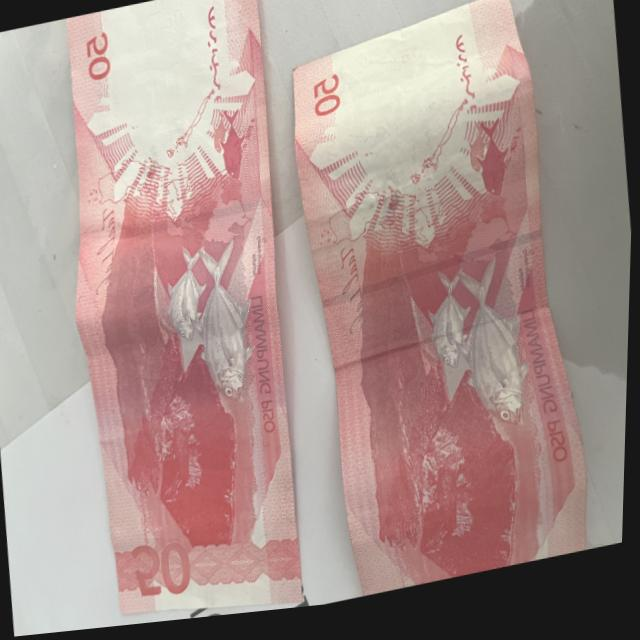50_maliputo: (416, 262, 542, 455), (157, 239, 264, 419)
50_maliputo_watermark: (454, 105, 526, 222), (199, 89, 258, 194)
